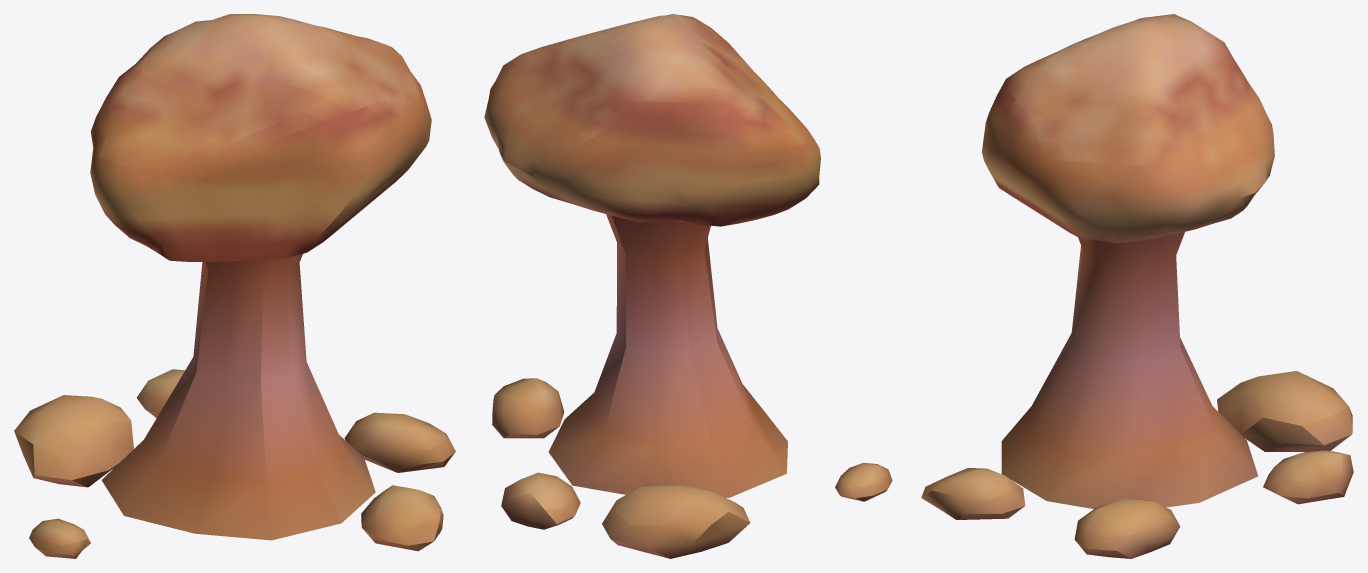
The model's file is amber_pillar_balanced_a.glb.
The picture shows the model from 3 angles, left to right: view 1: azimuth 30°, elevation 25°; view 2: azimuth 150°, elevation 25°; view 3: azimuth 270°, elevation 25°; orthographic projection. The views are drawn at different scales.
Visible parts, largest first — view 1: amber_pillar_balanced_a; view 2: amber_pillar_balanced_a; view 3: amber_pillar_balanced_a.
Boxes of the visible parts, <box> form: amber_pillar_balanced_a: <box>14,14,455,558</box>; amber_pillar_balanced_a: <box>484,14,892,558</box>; amber_pillar_balanced_a: <box>921,14,1353,558</box>.
Bounding box in the file's own units: 8.94 × 9.66 × 8.31.
